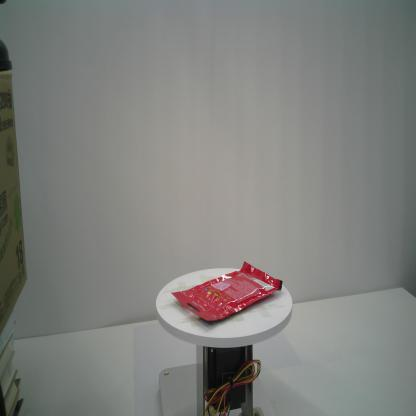Candy: (171, 261, 283, 322)
